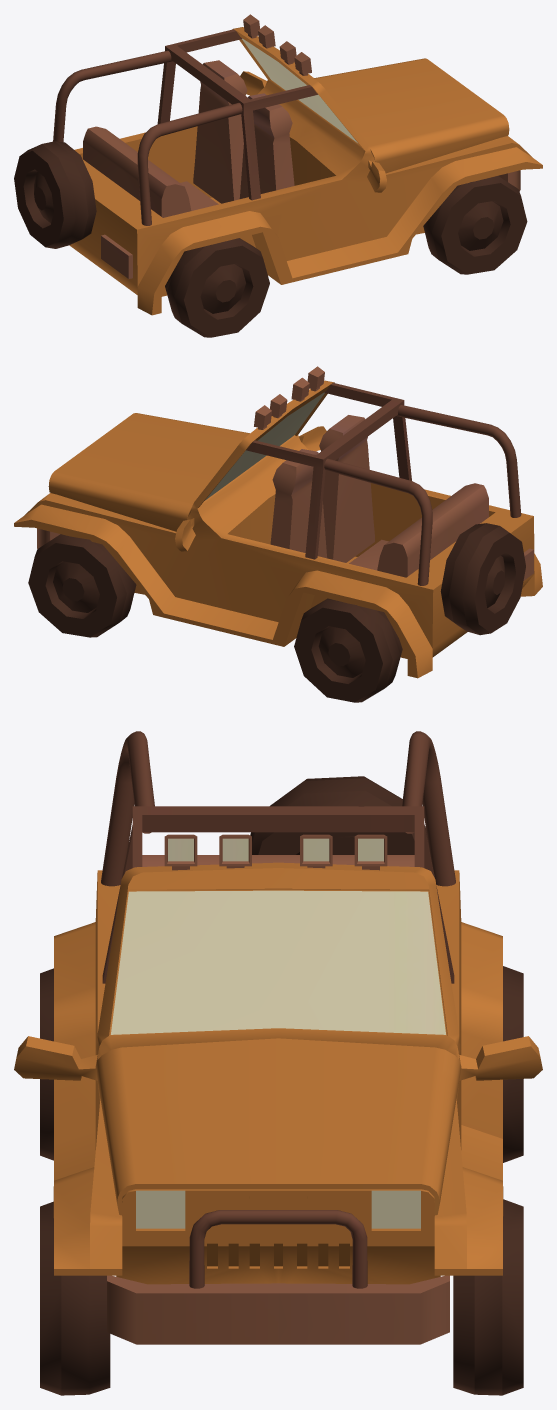
File: MainJeep.fbx
3 views of the same model, one above another, from view 1: azimuth 30°, elevation 25°; view 2: azimuth 150°, elevation 25°; view 3: azimuth 270°, elevation 25° (orthographic). The views are drawn at different scales.
Parts seen in each view (by area): view 1: Car_Door1, Wheels; view 2: Car_Door1, Wheels; view 3: Car_Door1, Wheels.
Boxes of the visible parts, box(x1,y1,x2,y2) form: Car_Door1: box(14, 14, 542, 315); Wheels: box(165, 176, 527, 337); Car_Door1: box(14, 366, 542, 678); Wheels: box(28, 534, 402, 702); Car_Door1: box(14, 731, 542, 1344); Wheels: box(40, 966, 523, 1395).
Size of the model in its own units: 440 by 224 by 255.
